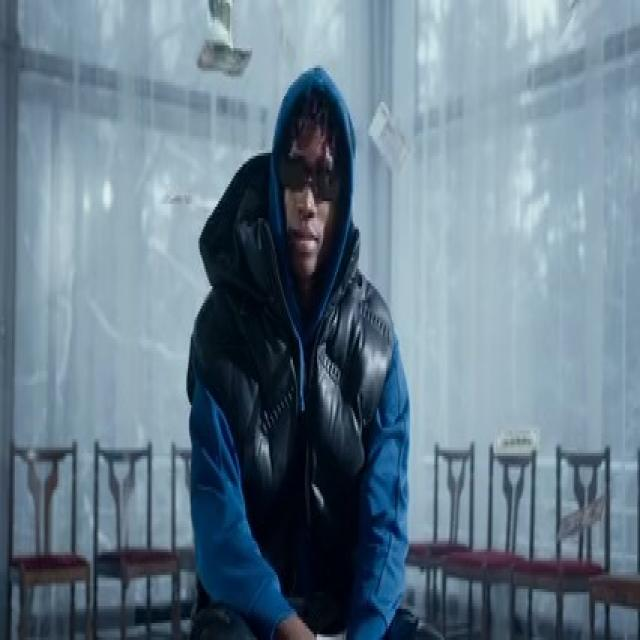Jacket_Wearer: (190, 223, 404, 640)
Person: (165, 54, 424, 640)
